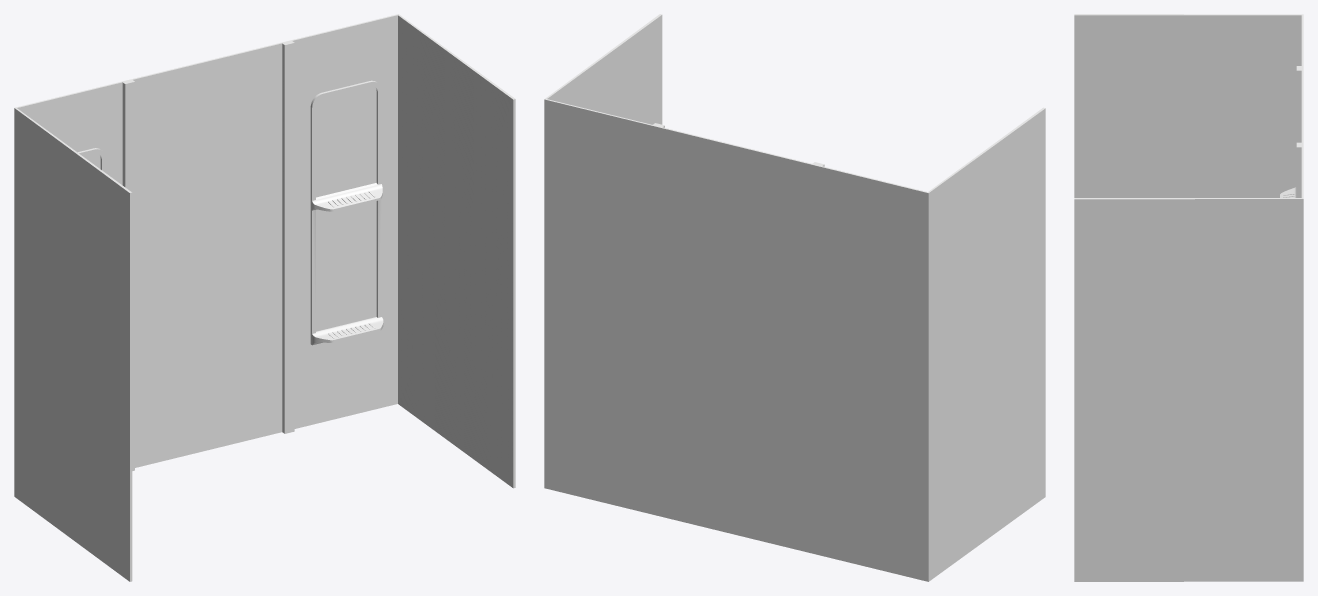
Rendered from maax-harnett.glb.
3 views of the same model, side by side, from view 1: azimuth 30°, elevation 25°; view 2: azimuth 150°, elevation 25°; view 3: azimuth 270°, elevation 25° (orthographic).
Parts seen in each view (by area): view 1: Plane001; view 2: Plane001; view 3: Plane001.
Boxes of the visible parts, left/top/right/bottom form: Plane001: left=14, top=14, right=515, bottom=581; Plane001: left=544, top=14, right=1045, bottom=581; Plane001: left=1074, top=14, right=1303, bottom=581.
Size of the model in its own units: 1.56 by 1.5 by 0.8135.
Materials: 1 (1 with a texture image).
